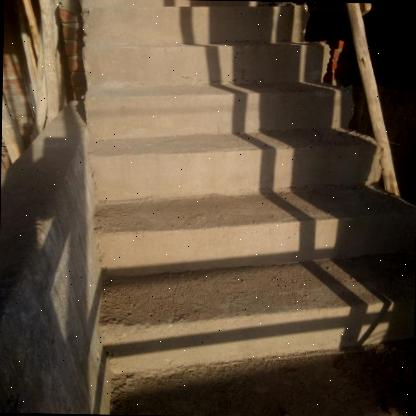stair: (61, 3, 395, 416)
